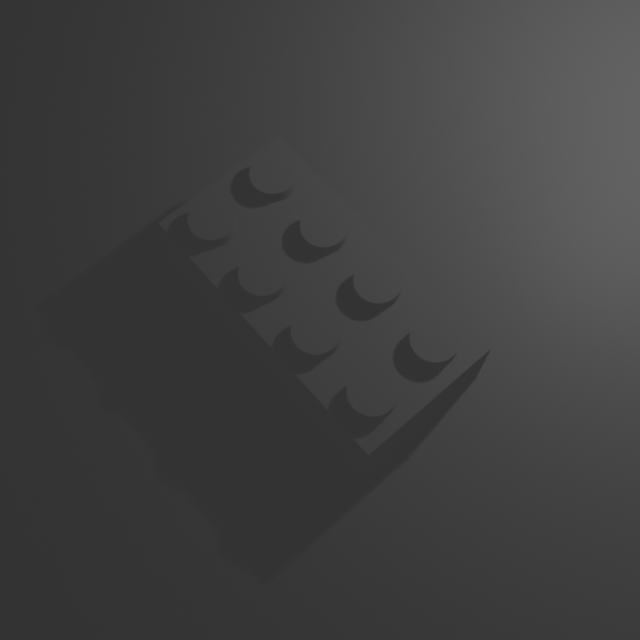lego_2x4: (155, 127, 494, 477)
